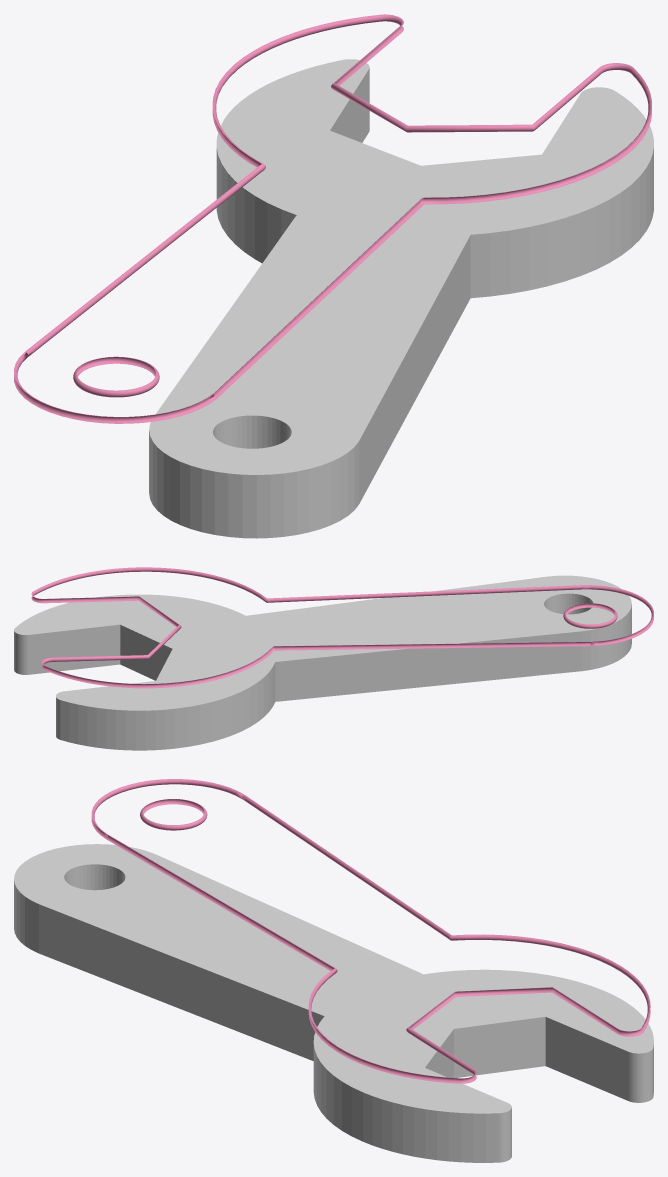
File: Wrench02.gltf
3 renders of one model, top to bottom at view 1: azimuth 30°, elevation 25°; view 2: azimuth 150°, elevation 25°; view 3: azimuth 270°, elevation 25°, orthographic. The views are drawn at different scales.
Visible parts, largest first — view 1: Curve.001, Curve; view 2: Curve.001, Curve; view 3: Curve.001, Curve.
Boxes of the visible parts, x1=… form: Curve.001: x1=149, y1=59, x2=653, y2=538; Curve: x1=14, y1=14, x2=651, y2=423; Curve.001: x1=14, y1=575, x2=631, y2=750; Curve: x1=31, y1=567, x2=653, y2=688; Curve.001: x1=14, y1=844, x2=653, y2=1162; Curve: x1=91, y1=779, x2=650, y2=1083.
Size of the model in its own units: 6.39 by 0.8109 by 5.73.
